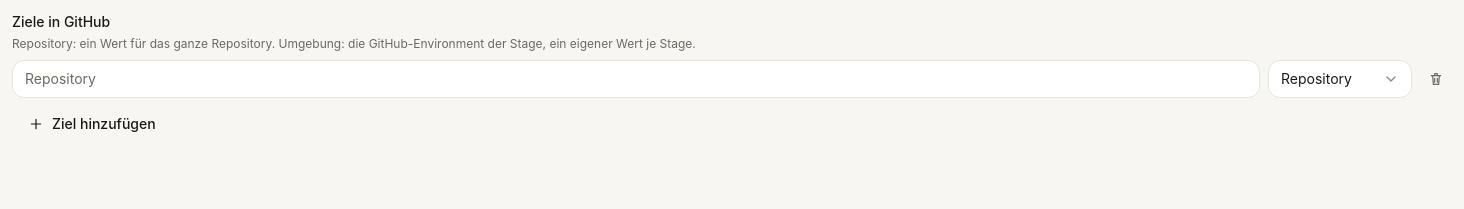
it: PlacesEditor repository and environment rows › edits the repository, adds and removes rows
Check: the text "Ziele in GitHub" is shown, box left=12, top=12, right=110, bottom=32
Type "acme-x" into the dropdown named "Repository, Ziel 1". click: (636, 79)
box: left=12, top=60, right=1260, bottom=98
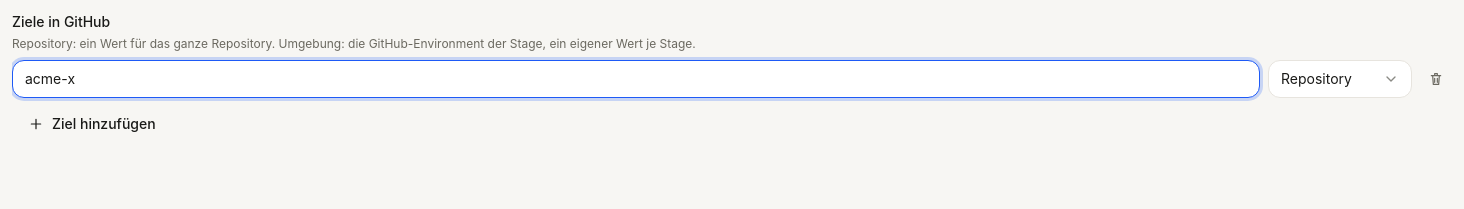
Click the button "Ziel hinzufügen". click: click(92, 124)
box: left=12, top=106, right=172, bottom=142
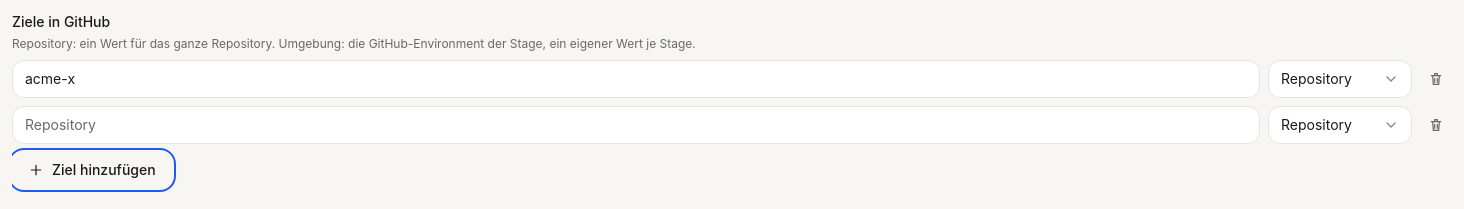
Check: the dropdown named "Repository, Ziel 2" is shown, box left=12, top=106, right=1260, bottom=144
Click the button named "Ziel 1 entfernen". click: click(1436, 79)
box: left=1420, top=60, right=1452, bottom=98
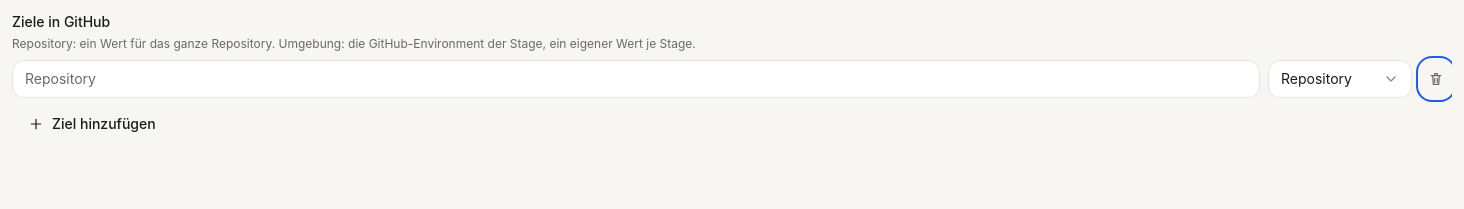
Check: the dropdown named "Repository, Ziel 1" is empty, box left=12, top=60, right=1260, bottom=98
